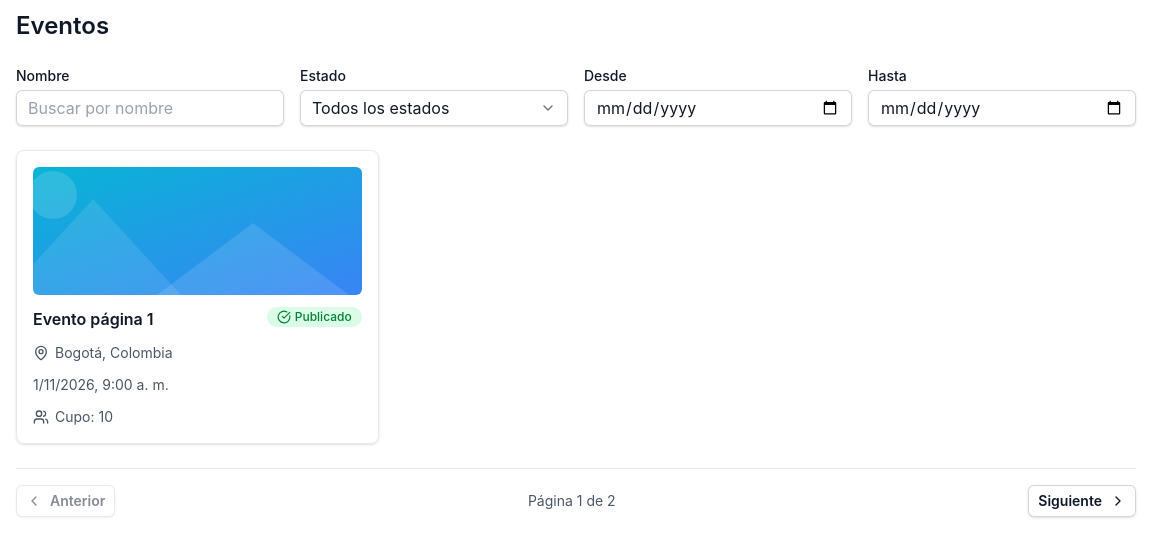
it: EventsListPage › pagina al hacer clic en Siguiente
Expected: the heading "Evento página 1" is shown, [33, 307, 154, 331]
Expected: the text "Página 1 de 2" is shown, [528, 491, 616, 511]
Click the button "Siguiente": coordinates (1082, 501) [1028, 485, 1136, 517]
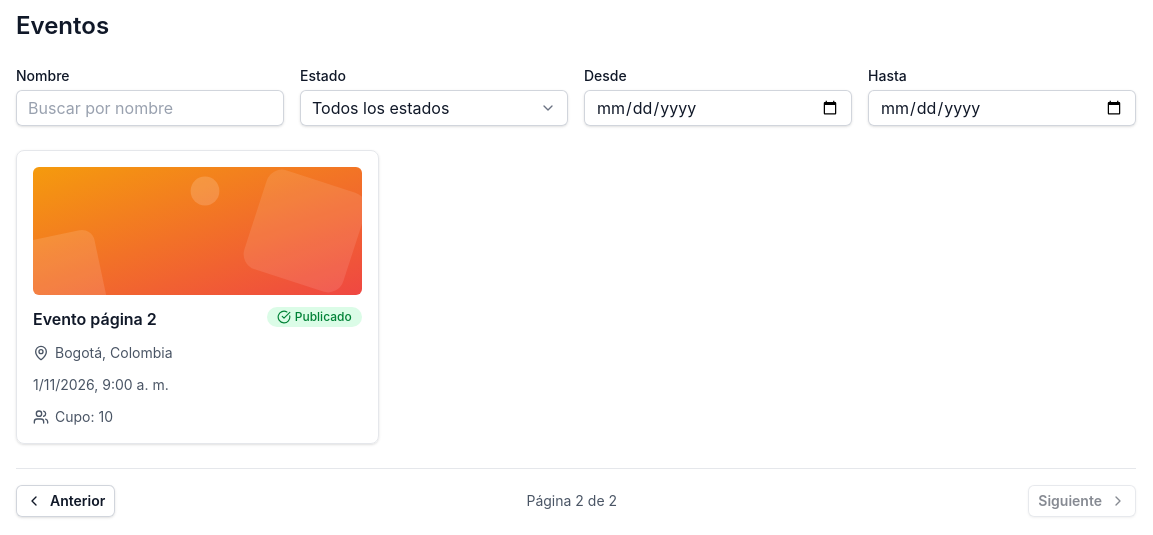
Now the heading "Evento página 2" is shown, box [33, 307, 157, 331]
Now the text "Página 2 de 2" is shown, box [526, 491, 617, 511]
